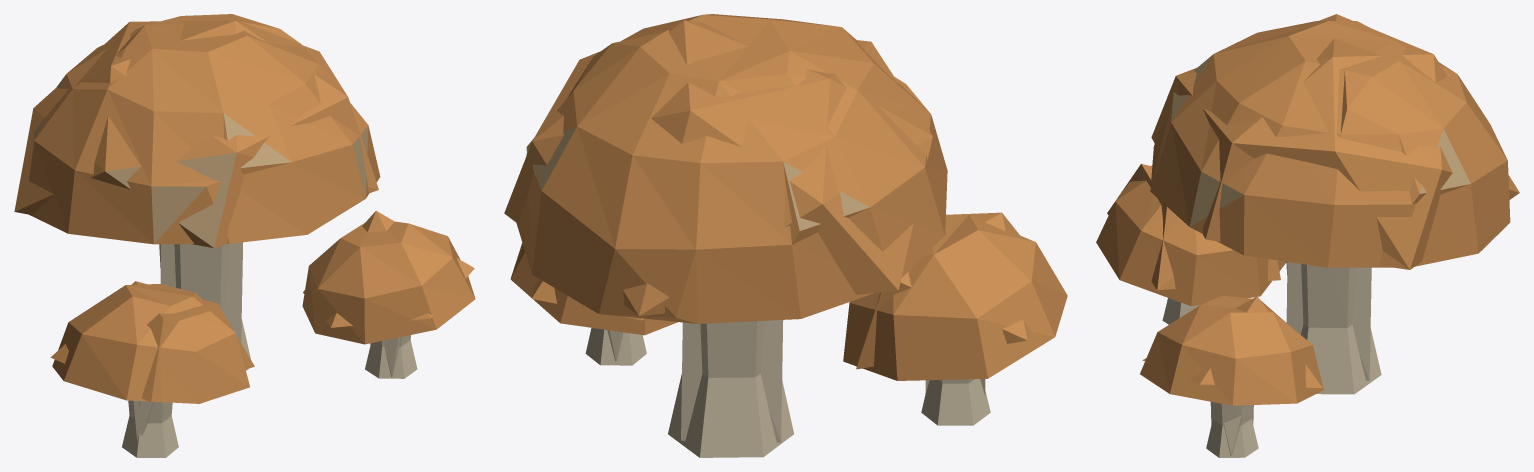
The model's file is pf_mushrooms.glb.
3 views of the same model, side by side, from view 1: azimuth 30°, elevation 25°; view 2: azimuth 150°, elevation 25°; view 3: azimuth 270°, elevation 25° (orthographic). The views are drawn at different scales.
Visible parts, largest first — view 1: body, body__far; view 2: body, body__far; view 3: body, body__far.
Part boxes in pixels (x1,y1,x2,y2): body: [29, 14, 475, 457]; body__far: [14, 20, 474, 440]; body: [510, 14, 1067, 457]; body__far: [504, 20, 1031, 442]; body: [1096, 21, 1510, 457]; body__far: [1107, 14, 1519, 455].
Size of the model in its own units: 1.12 by 0.8627 by 0.9765.
